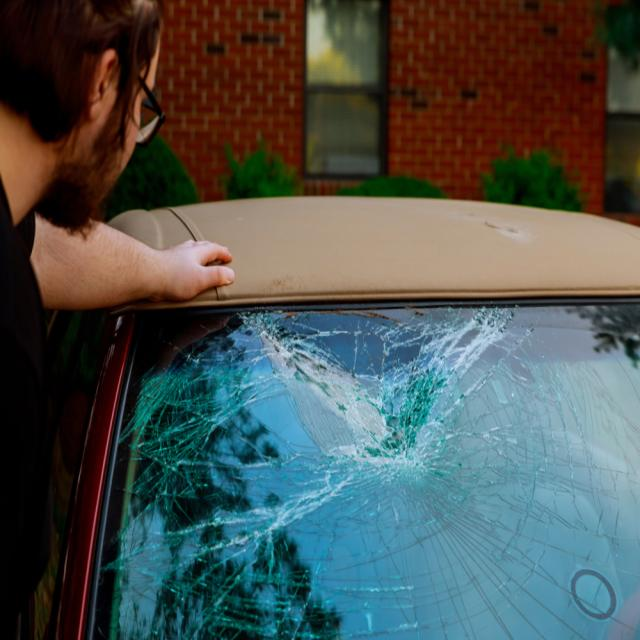glass shatter: (90, 302, 640, 640)
